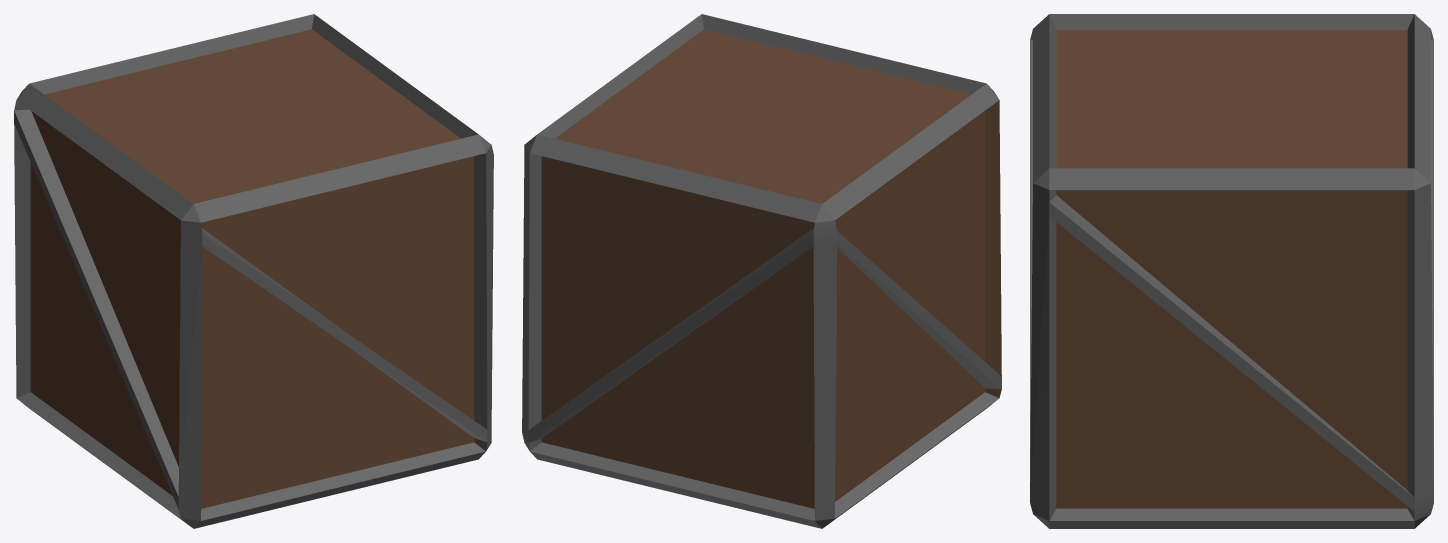
Rendered from Wooden_Box.fbx.
3 renders of one model, left to right at view 1: azimuth 30°, elevation 25°; view 2: azimuth 150°, elevation 25°; view 3: azimuth 270°, elevation 25°, orthographic. The views are drawn at different scales.
Visible parts, largest first — view 1: pCube1; view 2: pCube1; view 3: pCube1.
Boxes of the visible parts, <box> form: pCube1: <box>14,14,493,528</box>; pCube1: <box>522,14,1001,528</box>; pCube1: <box>1030,14,1433,528</box>.
Size of the model in its own units: 1.09 by 1.08 by 1.09.
